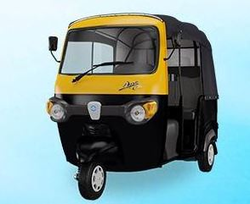auto: (43, 11, 221, 204)
